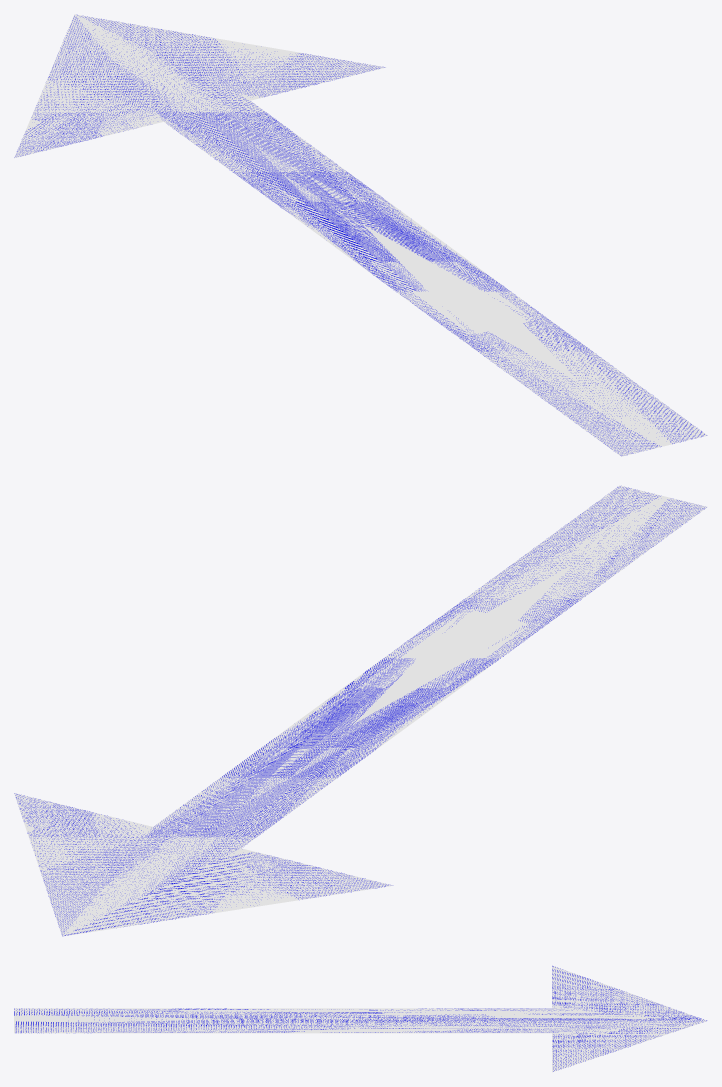
File: bluearrow.dae
3 renders of one model, top to bottom at view 1: azimuth 30°, elevation 25°; view 2: azimuth 150°, elevation 25°; view 3: azimuth 270°, elevation 25°, orthographic. The views are drawn at different scales.
Parts seen in each view (by area): view 1: SketchUp; view 2: SketchUp; view 3: SketchUp.
Part boxes in pixels (bbox=[...]): SketchUp: bbox=[14, 14, 707, 456]; SketchUp: bbox=[14, 485, 707, 936]; SketchUp: bbox=[14, 965, 707, 1072].
Bounding box in the file's own units: 168 × 462 × 0.
